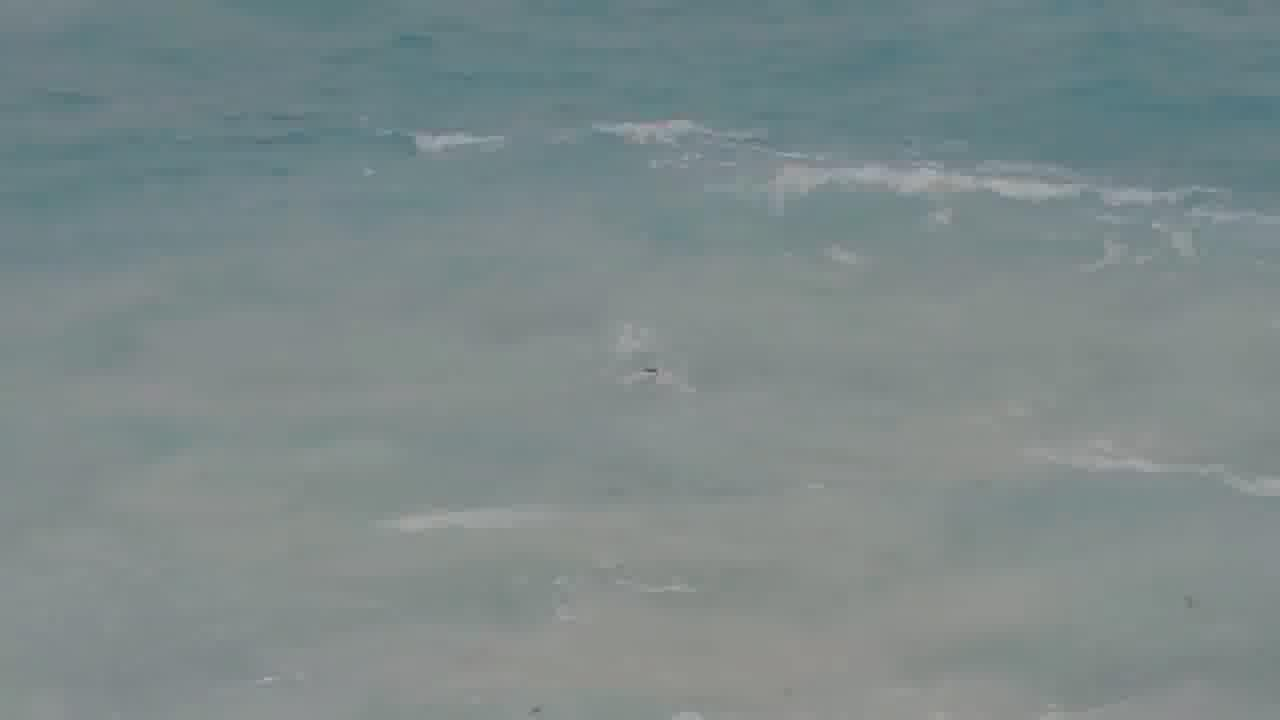swimmer: (638, 359, 668, 399)
